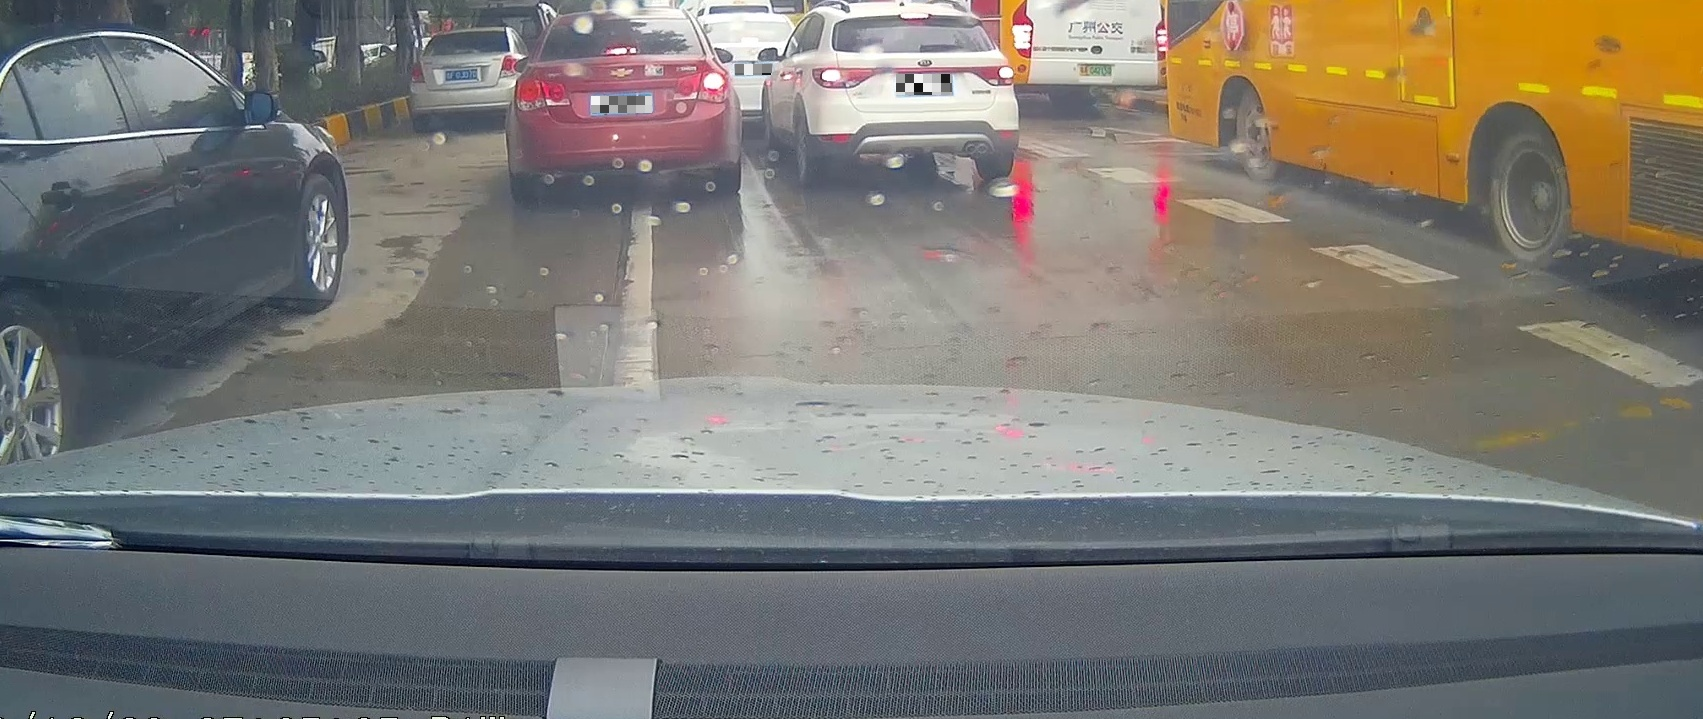L_light: (515, 76, 572, 112), (812, 67, 876, 88)
R_light: (673, 67, 729, 103), (973, 65, 1016, 87)
T_light: (604, 46, 636, 56), (900, 14, 928, 18)
day-brake: (508, 7, 734, 201), (807, 4, 1019, 181)
plate_1: (591, 96, 652, 113)
plate_2: (735, 64, 772, 75)
plate_3: (896, 74, 953, 94)
